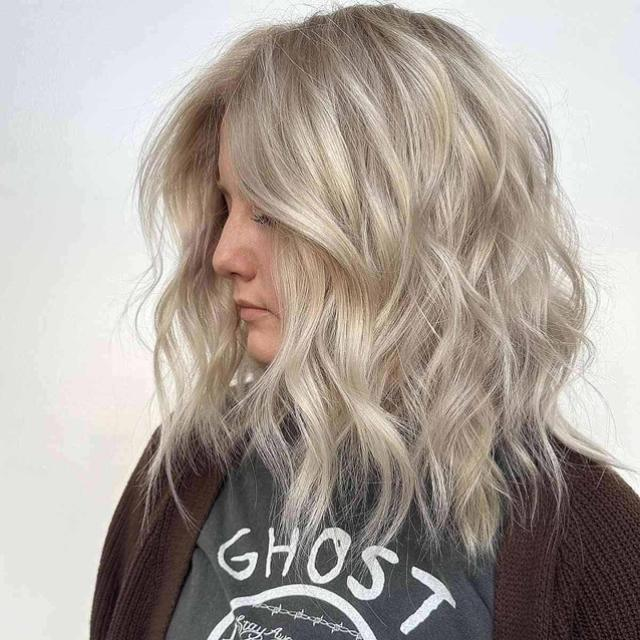Nonhelmet: (118, 4, 631, 570)
